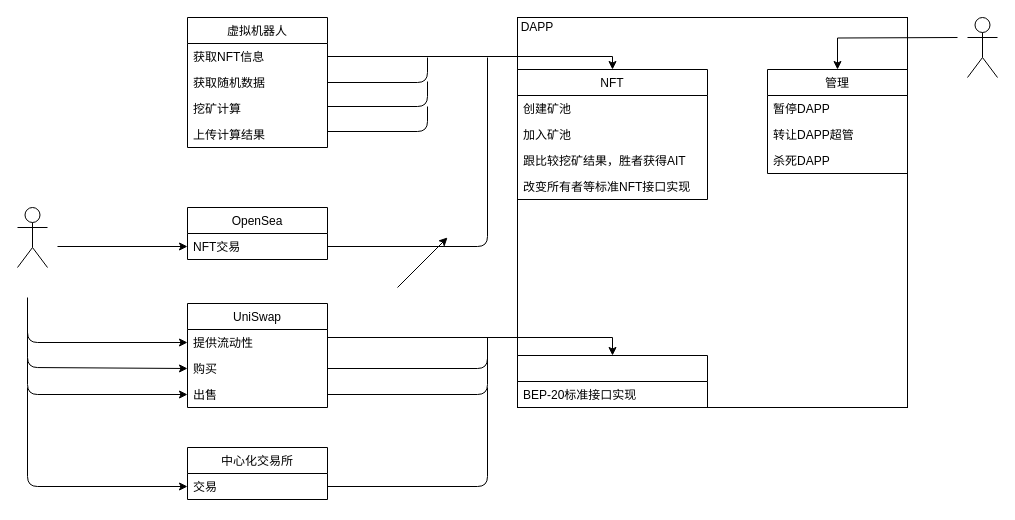
Some shapes in this 1015 by 520 pixel diagram are drawn without their labels. Each missing label, with the box of its shape:
AIT: (516, 354, 708, 408)
用户: (16, 206, 48, 268)
超管: (966, 16, 998, 78)
